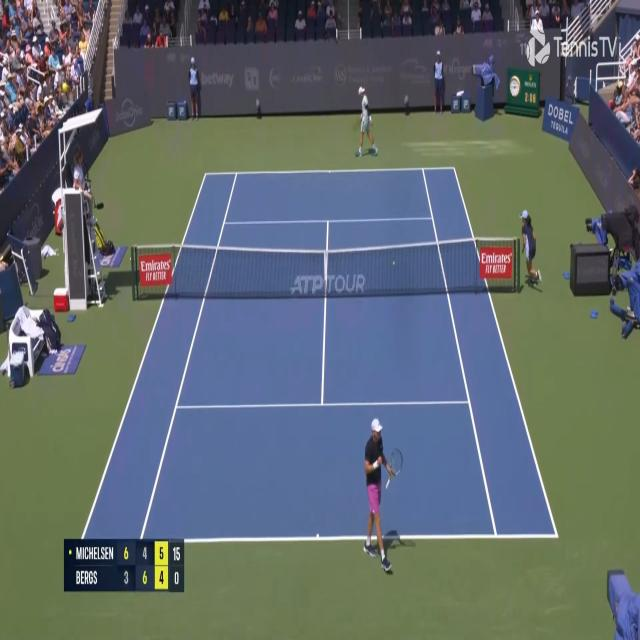tennis-player: (361, 414, 405, 575), (356, 84, 380, 160)
